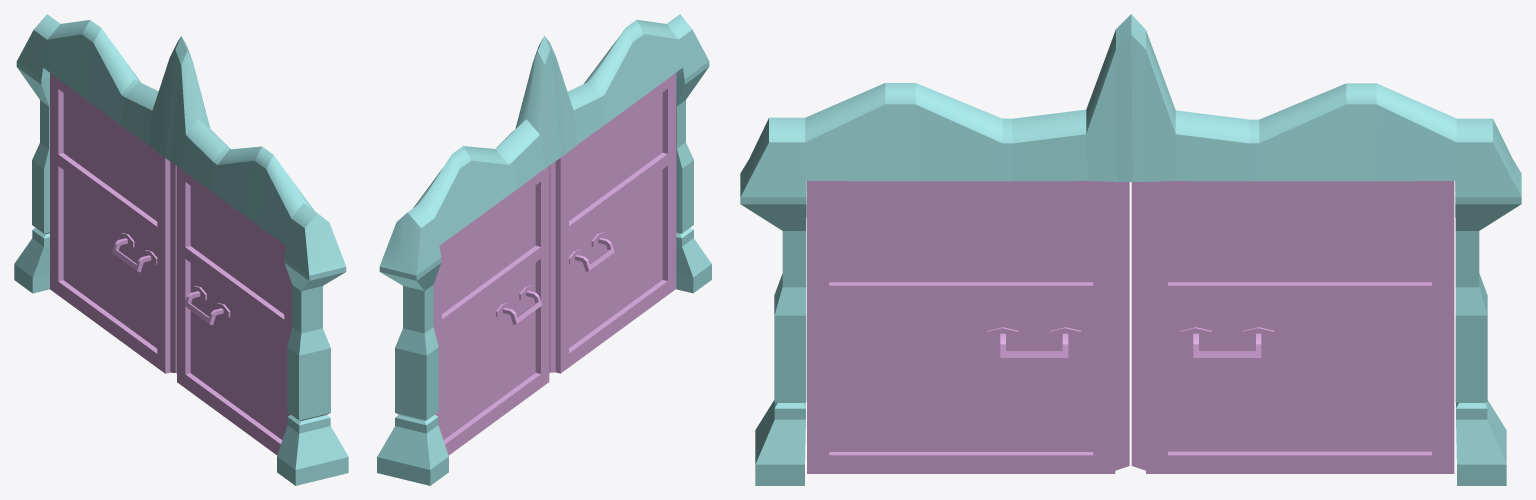
File: Grand_Entrance_Door.fbx
3 views of the same model, side by side, from view 1: azimuth 30°, elevation 25°; view 2: azimuth 150°, elevation 25°; view 3: azimuth 270°, elevation 25° (orthographic). The views are drawn at different scales.
Visible parts, largest first — view 1: pCube1, Door_R, Door_L; view 2: pCube1, Door_L, Door_R; view 3: Door_R, Door_L, pCube1.
Boxes of the visible parts, x1,y1,x2,y2 form: pCube1: (14, 14, 348, 485); Door_R: (50, 73, 176, 373); Door_L: (176, 166, 292, 455); pCube1: (377, 14, 711, 485); Door_L: (549, 73, 676, 373); Door_R: (433, 165, 549, 455); Door_R: (1131, 181, 1454, 473); Door_L: (807, 181, 1129, 473); pCube1: (740, 14, 1521, 485).
Size of the model in its own units: 0.2524 by 1.55 by 2.41.
